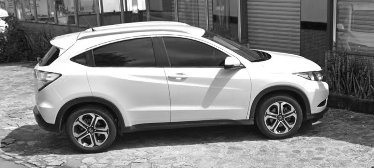car: (30, 14, 330, 152)
